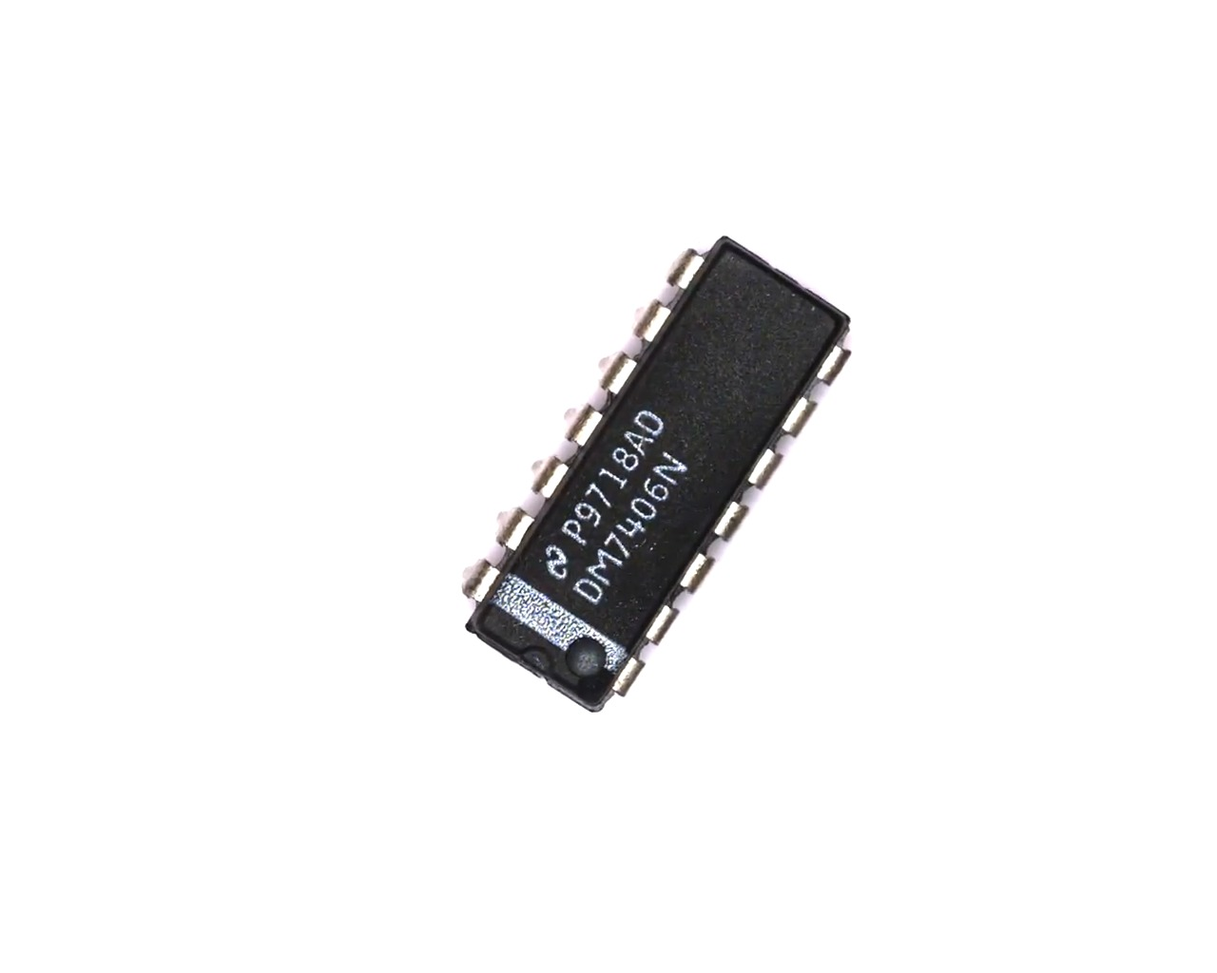IC: (420, 210, 889, 739)
notch: (511, 643, 558, 679)
